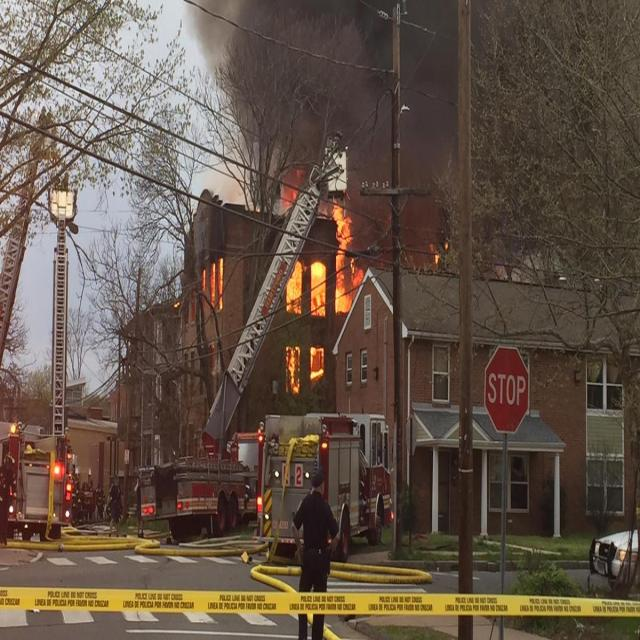Fire: (238, 157, 381, 410)
